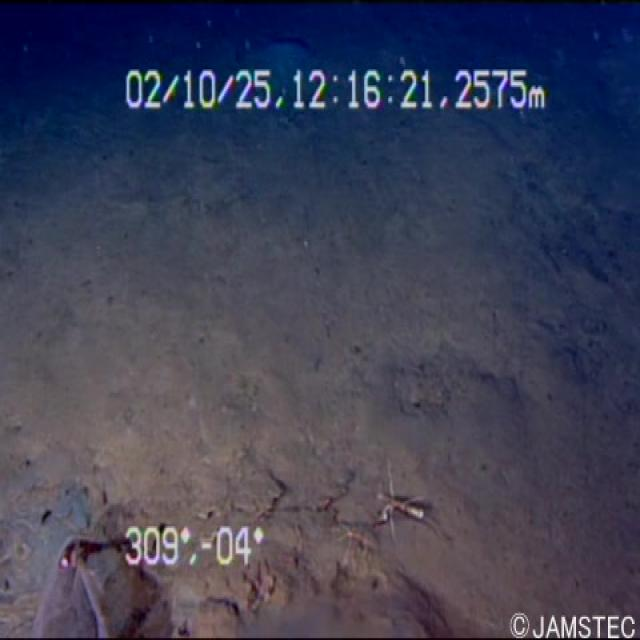plastic: (24, 508, 148, 638)
